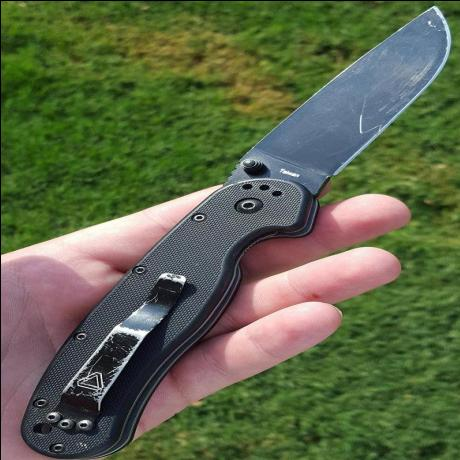1: (4, 175, 416, 460)
weapon: (20, 4, 459, 460)
